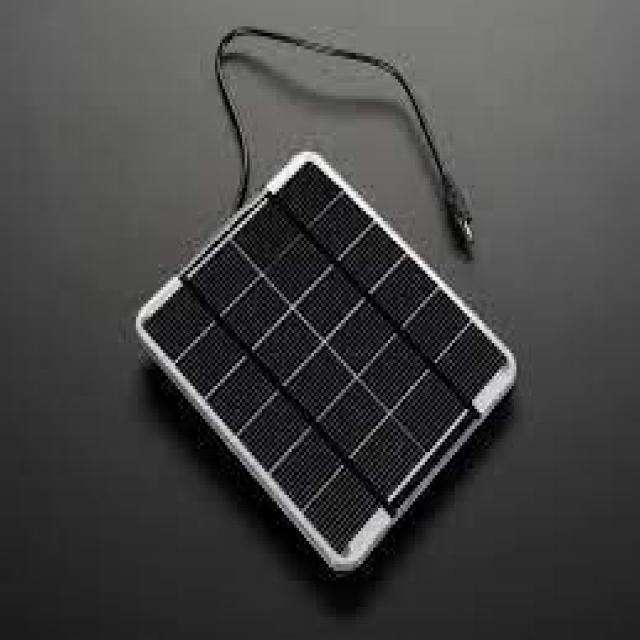no faulty: (152, 154, 507, 559)
